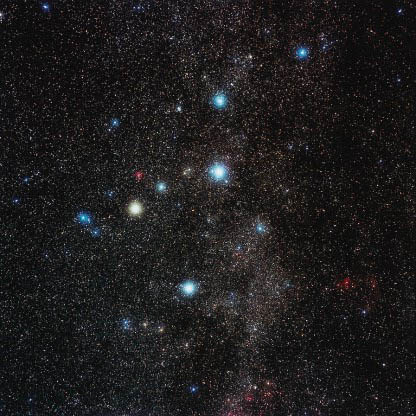Cassiopeia: (122, 180, 178, 218), (202, 83, 243, 124), (201, 156, 237, 185), (167, 273, 210, 297), (286, 39, 316, 66)
